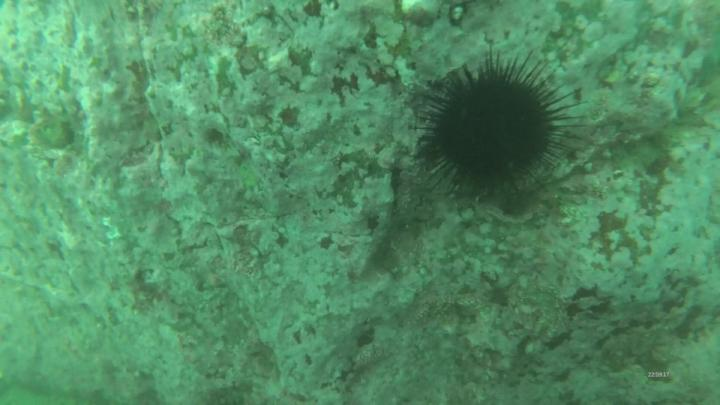echinus: (430, 70, 558, 182)
